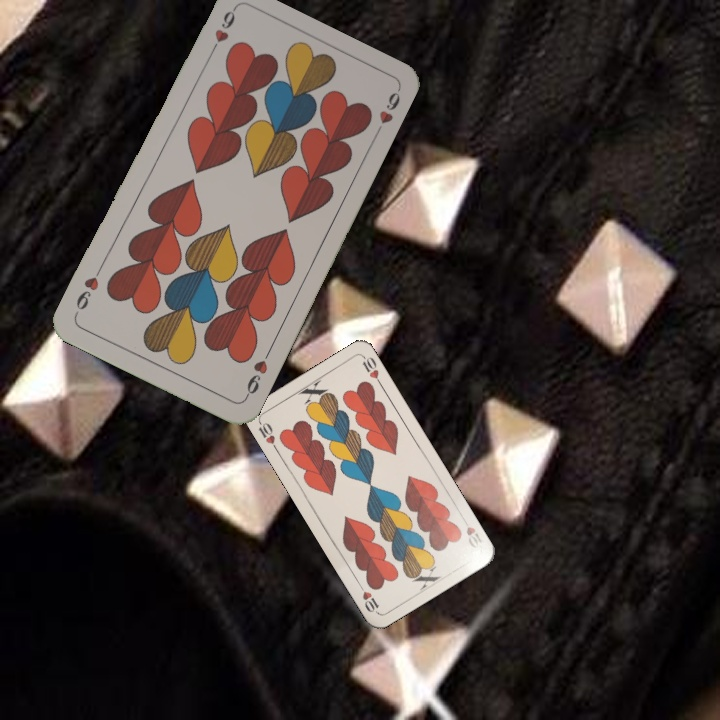H10: (458, 514, 485, 551), (254, 417, 281, 454)
H9: (204, 6, 238, 61), (240, 347, 273, 402)
